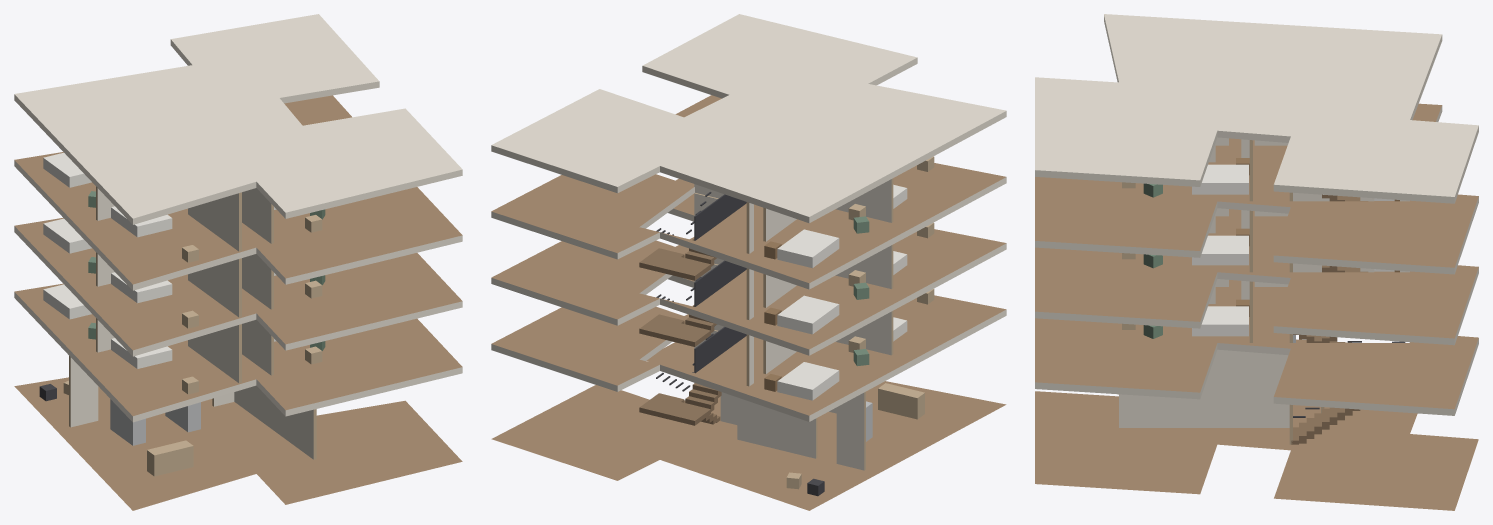
File: interior.glb
The picture shows the model from 3 angles, left to right: view 1: azimuth 30°, elevation 25°; view 2: azimuth 150°, elevation 25°; view 3: azimuth 270°, elevation 25°; orthographic projection. The views are drawn at different scales.
Visible parts, largest first — view 1: slabs, partitions, coarse-s0, coarse-s1, coarse-s2, coarse-s3; view 2: slabs, partitions, stair, coarse-s2, coarse-s3, coarse-s1, coarse-s0; view 3: slabs, partitions, coarse-s2, coarse-s1, stair, coarse-s3.
Part boxes in pixels (x1,y1,x2,y2): slabs: (14, 14, 462, 510); partitions: (69, 186, 316, 459); coarse-s0: (39, 380, 200, 476); coarse-s1: (43, 284, 325, 394); coarse-s2: (43, 218, 325, 328); coarse-s3: (43, 152, 325, 262); slabs: (491, 14, 1006, 510); partitions: (694, 178, 893, 470); stair: (639, 192, 746, 425); coarse-s2: (764, 222, 934, 334); coarse-s3: (764, 156, 934, 268); coarse-s1: (764, 289, 934, 400); coarse-s0: (786, 383, 924, 496); slabs: (1035, 14, 1478, 510); partitions: (1119, 137, 1409, 444); coarse-s2: (1122, 198, 1399, 268); coarse-s1: (1122, 269, 1399, 338); stair: (1291, 194, 1367, 444); coarse-s3: (1122, 158, 1249, 197).
Size of the model in its own units: 15.21 by 12.18 by 15.58.
